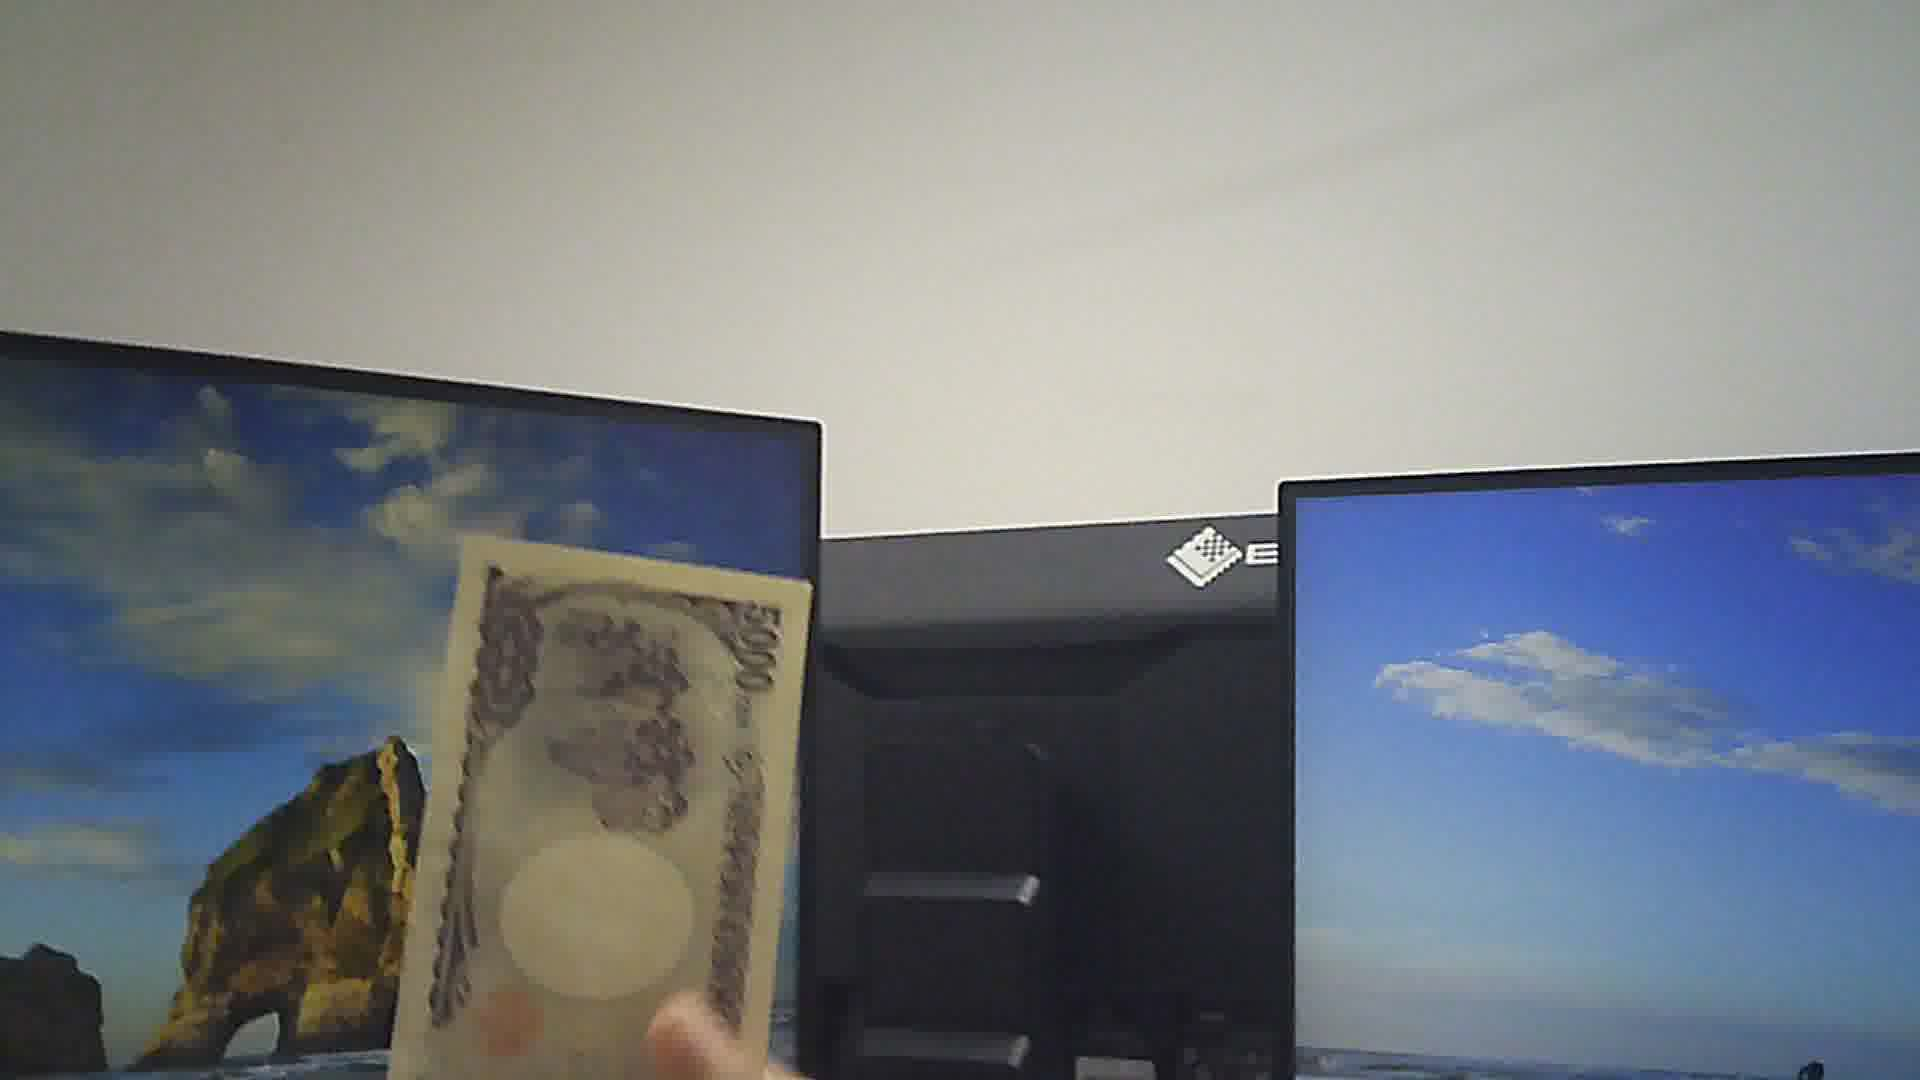5,000 Yen: (394, 527, 815, 1079)
